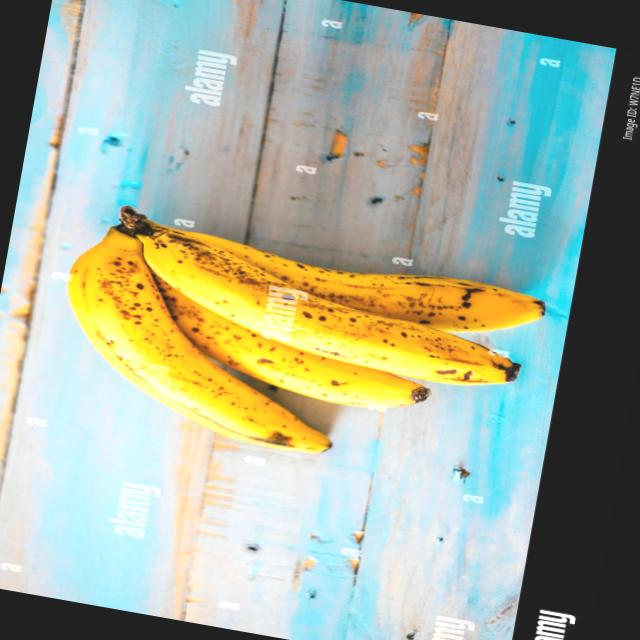Platano: (40, 192, 558, 492)
